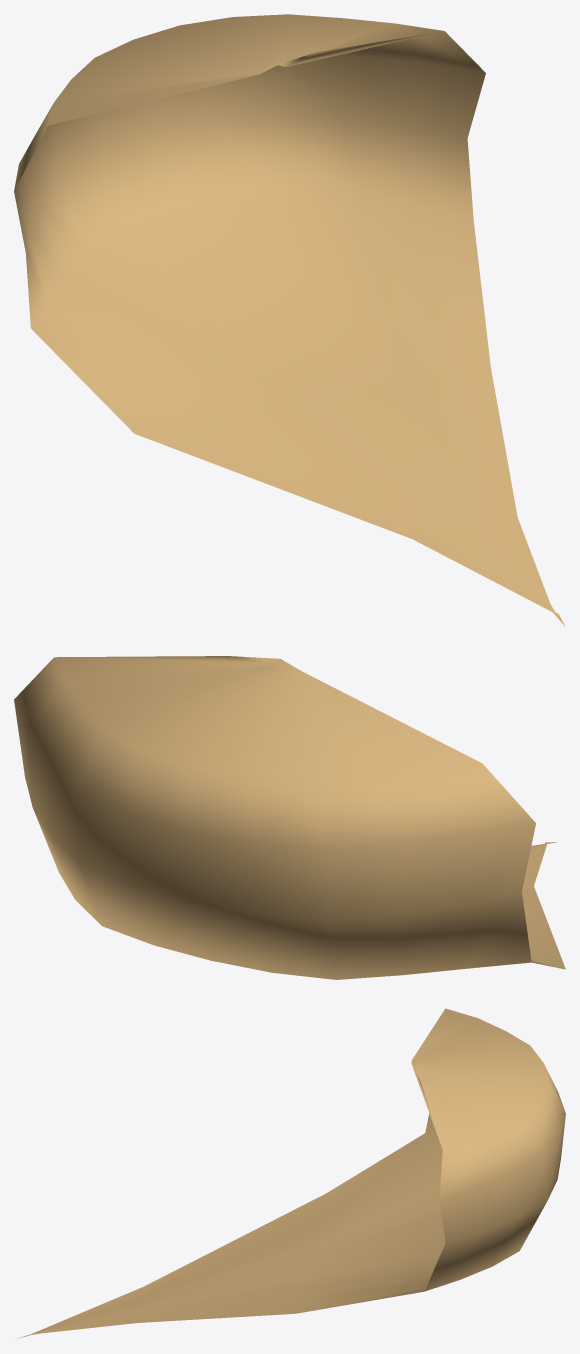
Rendered from abdomen_4_lower.obj.
3 renders of one model, top to bottom at view 1: azimuth 30°, elevation 25°; view 2: azimuth 150°, elevation 25°; view 3: azimuth 270°, elevation 25°, orthographic. The views are drawn at different scales.
Bounding box in the file's own units: 0.0592 × 0.044 × 0.081.
